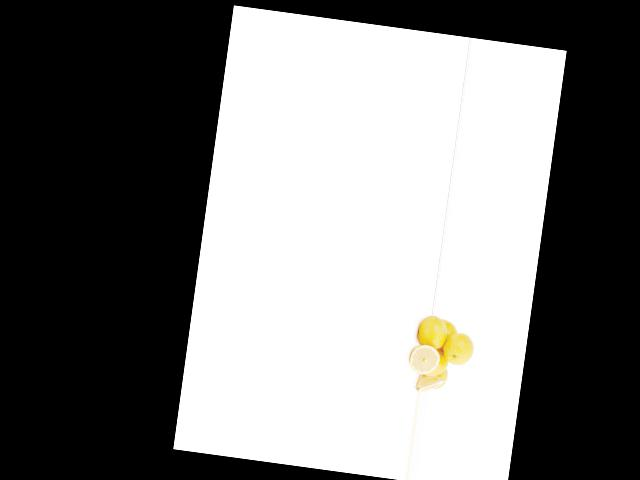lemon: (413, 314, 453, 353)
